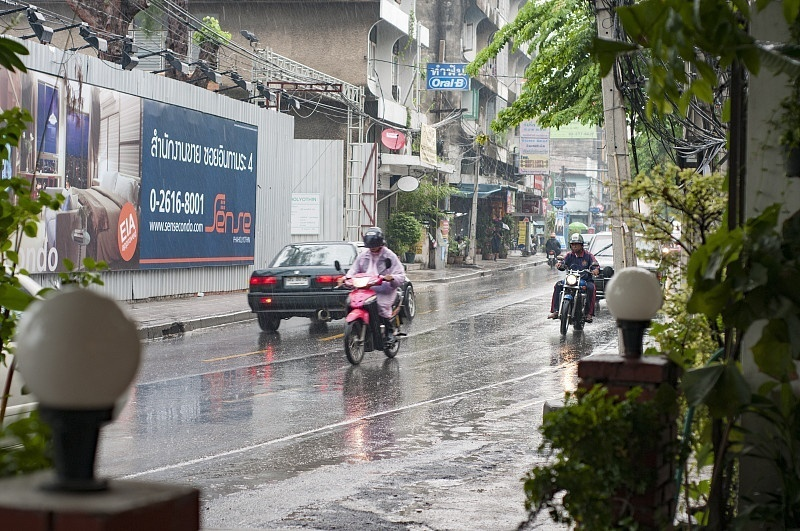non-vehicle: (336, 267, 413, 361), (554, 263, 598, 335)
